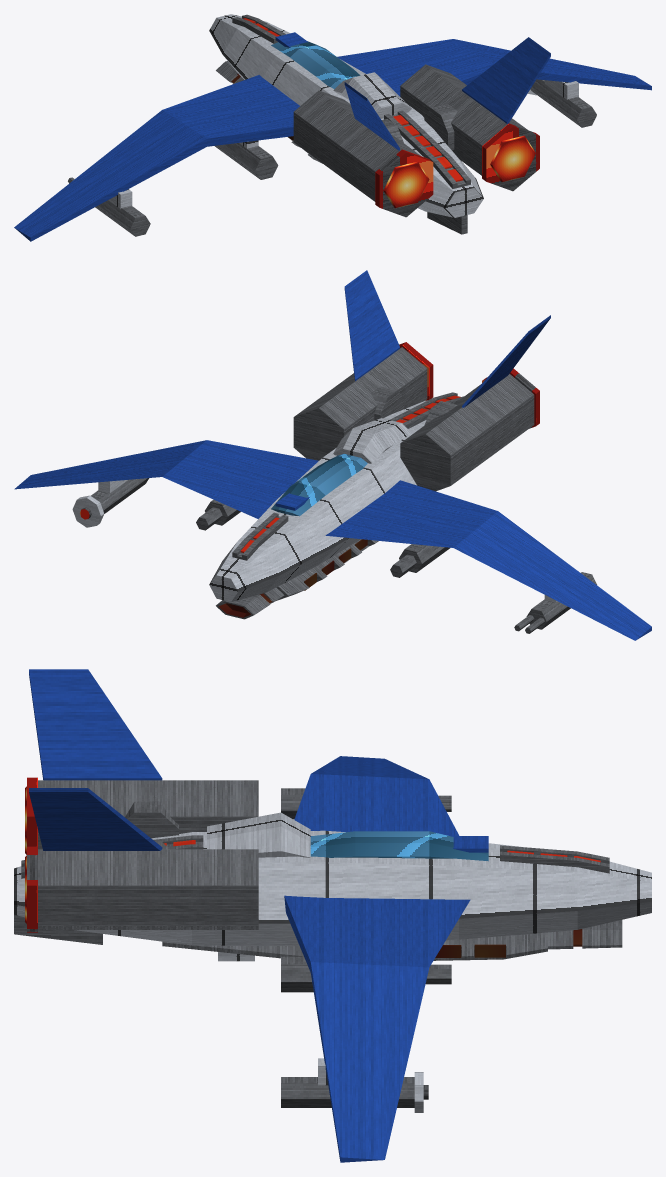
The model's file is goshawk.glb.
3 views of the same model, one above another, from view 1: azimuth 30°, elevation 25°; view 2: azimuth 150°, elevation 25°; view 3: azimuth 270°, elevation 25° (orthographic). The views are drawn at different scales.
Visible parts, largest first — view 1: wing_outer, fuselage, nacelle, wing_inner, nacelle.001, wing_inner.001, fin.001, wing_outer.001, canopy, booster_ring, booster_ring.001, intake (+11 smaller); view 2: fuselage, nacelle, wing_outer, wing_inner.001, wing_inner, nacelle.001, fin.001, wing_outer.001, canopy, intake, fin, cannon_fairing (+7 smaller); view 3: fuselage, nacelle.001, wing_outer.001, wing_inner.001, fin, wing_inner, nacelle, fin.001, canopy, intake, cannon_fairing, pod.003 (+7 smaller).
Part boxes in pixels (left/top/right/bottom): wing_outer: left=14, top=110, right=206, bottom=241; fuselage: left=209, top=14, right=483, bottom=217; nacelle: left=293, top=90, right=420, bottom=201; wing_inner: left=162, top=75, right=299, bottom=146; nacelle.001: left=400, top=64, right=527, bottom=175; wing_inner.001: left=337, top=39, right=493, bottom=96; fin.001: left=462, top=37, right=550, bottom=123; wing_outer.001: left=454, top=39, right=651, bottom=90; canopy: left=271, top=41, right=360, bottom=89; booster_ring: left=375, top=149, right=433, bottom=217; booster_ring.001: left=482, top=123, right=539, bottom=191; intake: left=333, top=72, right=411, bottom=118; fuselage: left=209, top=400, right=427, bottom=601; nacelle: left=400, top=374, right=534, bottom=491; wing_outer: left=454, top=511, right=651, bottom=640; wing_inner.001: left=162, top=440, right=318, bottom=518; wing_inner: left=325, top=480, right=497, bottom=547; nacelle.001: left=293, top=347, right=427, bottom=460; fin.001: left=344, top=270, right=399, bottom=381; wing_outer.001: left=14, top=440, right=206, bottom=489; canopy: left=271, top=454, right=367, bottom=516; intake: left=333, top=418, right=411, bottom=463; fin: left=462, top=315, right=550, bottom=407; cannon_fairing: left=263, top=539, right=378, bottom=600; fuselage: left=14, top=830, right=651, bottom=945; nacelle.001: left=38, top=849, right=258, bottom=929; wing_outer.001: left=310, top=962, right=429, bottom=1162; wing_inner.001: left=284, top=895, right=470, bottom=971; fin: left=29, top=669, right=162, bottom=780; wing_inner: left=294, top=774, right=459, bottom=835; nacelle: left=38, top=780, right=258, bottom=849; fin.001: left=29, top=788, right=162, bottom=850; canopy: left=310, top=831, right=488, bottom=861; intake: left=207, top=812, right=310, bottom=857; cannon_fairing: left=162, top=932, right=547, bottom=960; pod.003: left=281, top=1077, right=414, bottom=1107.
Size of the model in its own units: 128 by 35.58 by 86.
Materials: 10 (10 with a texture image).
